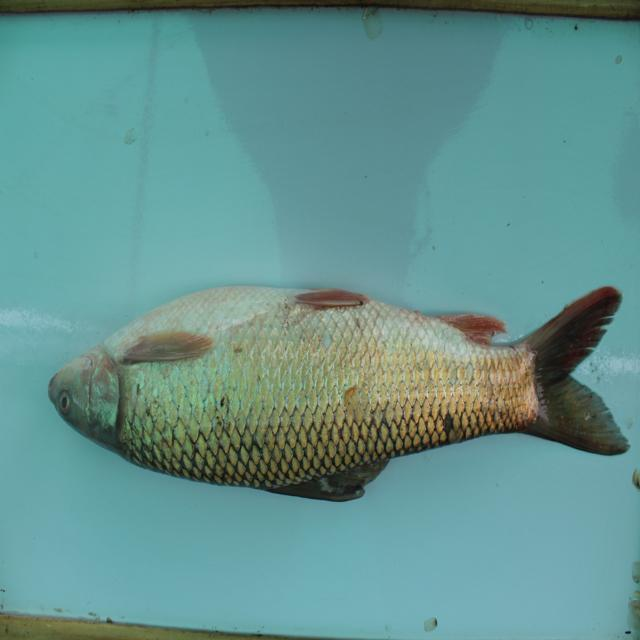Grass Carp: (48, 288, 621, 505)
